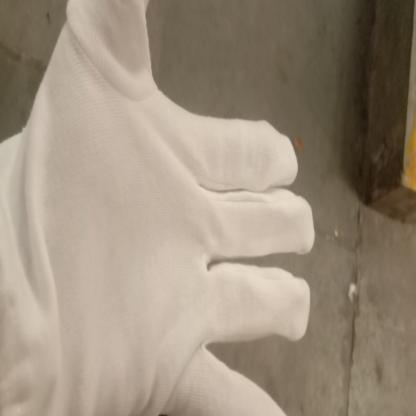gloved_hand: (0, 0, 317, 416)
